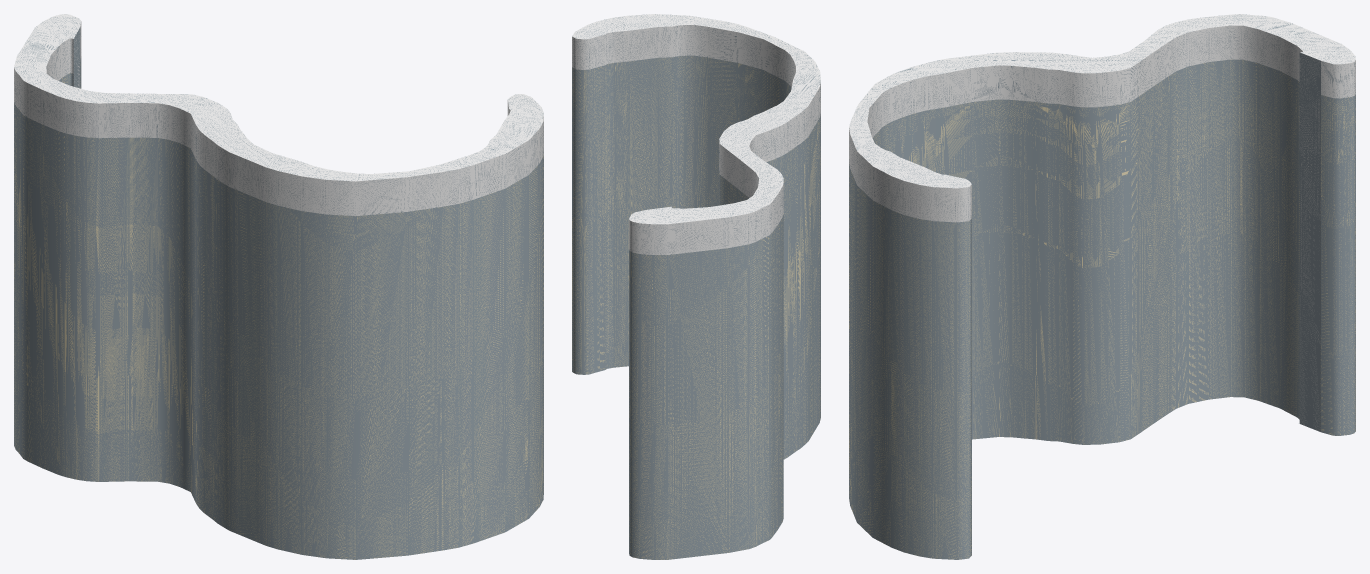
File: build06.fbx
The picture shows the model from 3 angles, left to right: view 1: azimuth 30°, elevation 25°; view 2: azimuth 150°, elevation 25°; view 3: azimuth 270°, elevation 25°; orthographic projection. The views are drawn at different scales.
Parts seen in each view (by area): view 1: Group1; view 2: Group1; view 3: Group1.
Part boxes in pixels (x1,y1,x2,y2): Group1: (14, 14, 543, 559); Group1: (572, 14, 820, 559); Group1: (849, 14, 1355, 559).
Size of the model in its own units: 13858 by 13763 by 17019.
